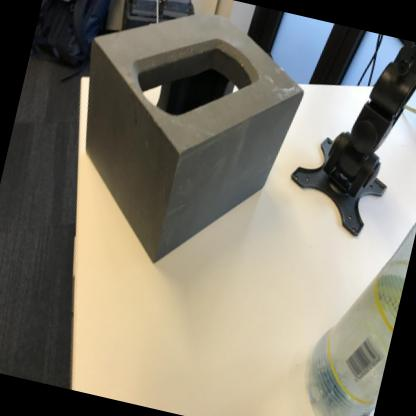CornerCasting: (39, 0, 327, 301)
